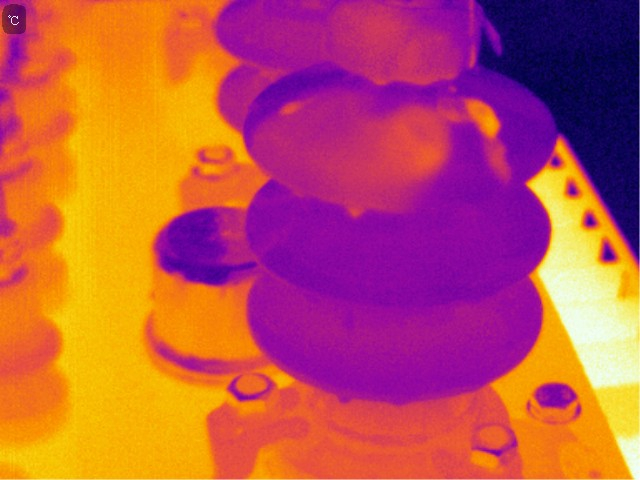Oil: (269, 92, 454, 227), (322, 1, 483, 84), (456, 93, 518, 184), (477, 8, 503, 69), (334, 386, 353, 405)
